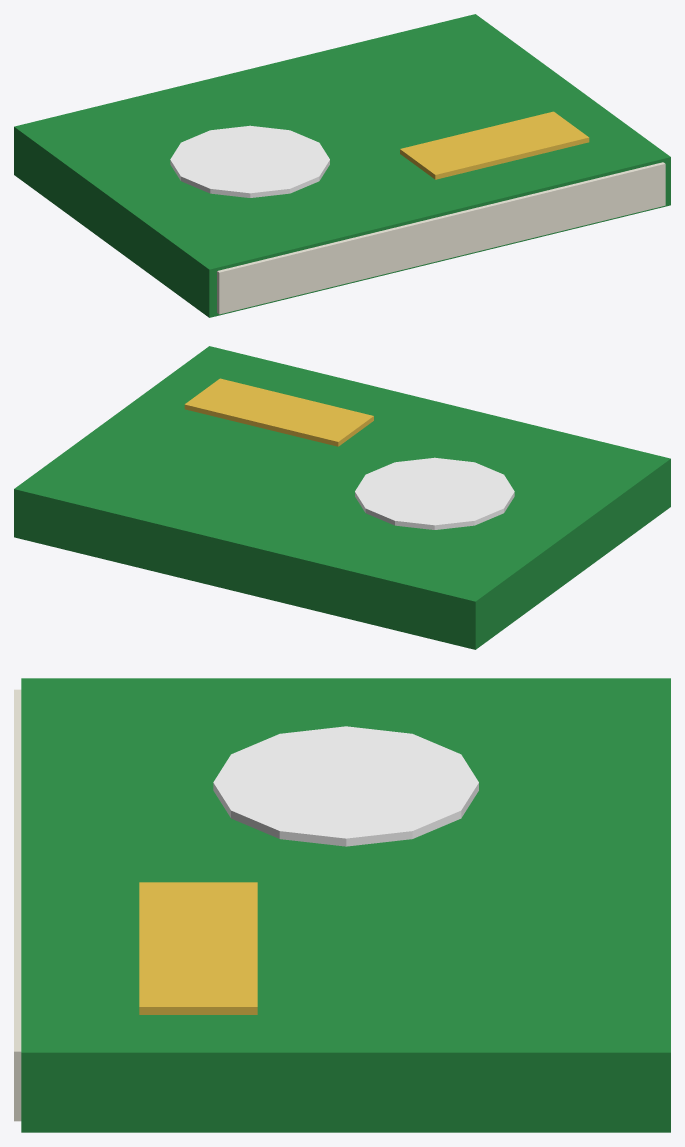
File: sticker_album.glb
3 renders of one model, top to bottom at view 1: azimuth 30°, elevation 25°; view 2: azimuth 150°, elevation 25°; view 3: azimuth 270°, elevation 25°, orthographic. The views are drawn at different scales.
Visible parts, largest first — view 1: cover_album_green, pages_album_pages, ball_album_ball, band_album_gold; view 2: cover_album_green, ball_album_ball, band_album_gold; view 3: cover_album_green, ball_album_ball, band_album_gold, pages_album_pages.
Part boxes in pixels (bbox=[...]): cover_album_green: bbox=[14, 14, 670, 317]; pages_album_pages: bbox=[217, 162, 665, 314]; ball_album_ball: bbox=[170, 125, 329, 197]; band_album_gold: bbox=[400, 111, 589, 179]; cover_album_green: bbox=[14, 346, 670, 649]; ball_album_ball: bbox=[355, 457, 514, 529]; band_album_gold: bbox=[184, 378, 373, 446]; cover_album_green: bbox=[21, 678, 670, 1132]; ball_album_ball: bbox=[213, 726, 478, 846]; band_album_gold: bbox=[139, 882, 257, 1014]; pages_album_pages: bbox=[14, 689, 21, 1121].
Bounding box in the file's own units: 0.3 × 0.033 × 0.2225.
